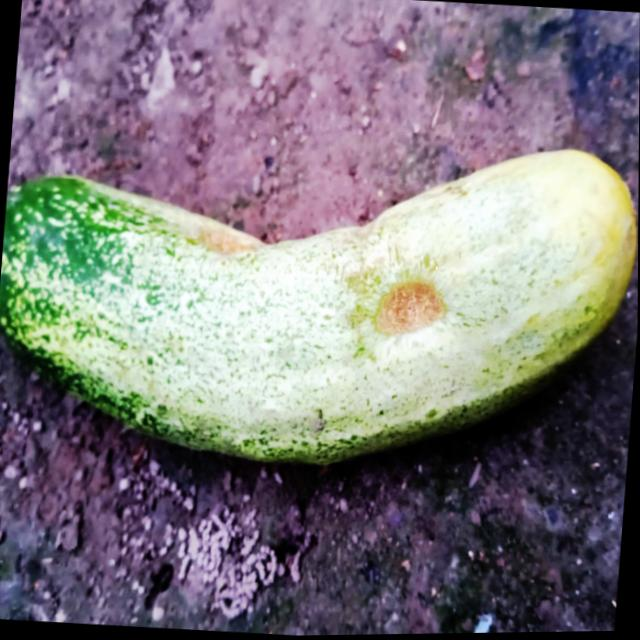Belly-Rot: (369, 273, 455, 343), (190, 220, 259, 264)
